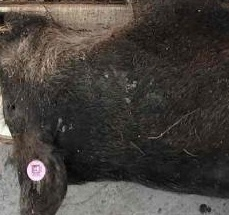text: (15, 149, 65, 196)
